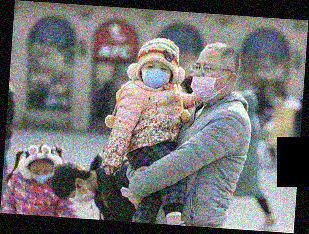mask_weared_incorrect: (189, 60, 228, 104)
with_mask: (140, 62, 173, 89), (68, 189, 98, 204), (30, 165, 52, 184)
